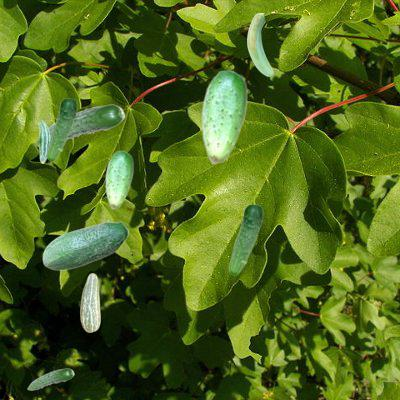cucumber: (201, 69, 246, 163), (42, 221, 128, 269), (34, 104, 124, 146), (228, 204, 262, 274), (46, 98, 76, 160), (105, 150, 132, 208), (247, 13, 272, 75), (80, 273, 99, 331), (27, 368, 73, 389), (38, 120, 49, 162)
